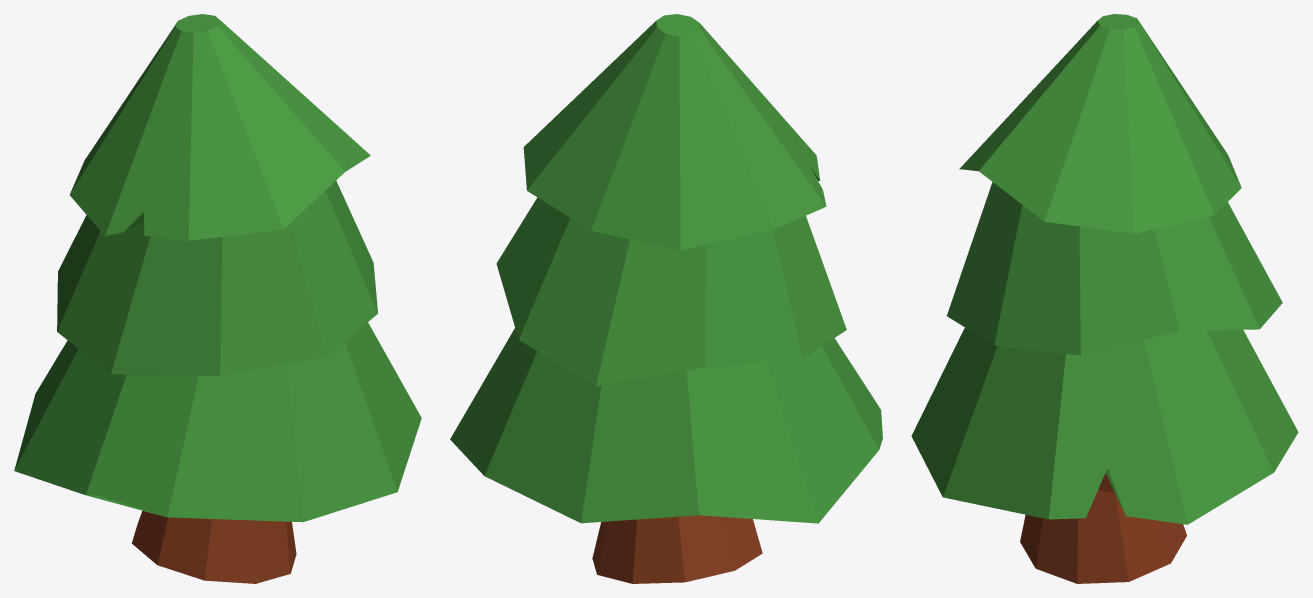
File: Fir2.fbx
3 renders of one model, left to right at view 1: azimuth 30°, elevation 25°; view 2: azimuth 150°, elevation 25°; view 3: azimuth 270°, elevation 25°, orthographic. The views are drawn at different scales.
Visible parts, largest first — view 1: Cylinder.007, Cylinder.008, Cylinder.009, Cylinder.005; view 2: Cylinder.007, Cylinder.009, Cylinder.008, Cylinder.005; view 3: Cylinder.007, Cylinder.008, Cylinder.009, Cylinder.005.
Part boxes in pixels (left/top/right/bottom): Cylinder.007: left=14, top=322, right=421, bottom=522; Cylinder.008: left=57, top=181, right=377, bottom=376; Cylinder.009: left=70, top=14, right=370, bottom=240; Cylinder.005: left=132, top=510, right=296, bottom=583; Cylinder.007: left=450, top=328, right=882, bottom=523; Cylinder.009: left=523, top=14, right=826, bottom=250; Cylinder.008: left=496, top=197, right=846, bottom=386; Cylinder.005: left=592, top=515, right=762, bottom=583; Cylinder.007: left=911, top=327, right=1298, bottom=524; Cylinder.008: left=947, top=182, right=1282, bottom=355; Cylinder.009: left=959, top=14, right=1241, bottom=233; Cylinder.005: left=1020, top=473, right=1186, bottom=583.
Bounding box in the file's own units: 373 × 542 × 361.
